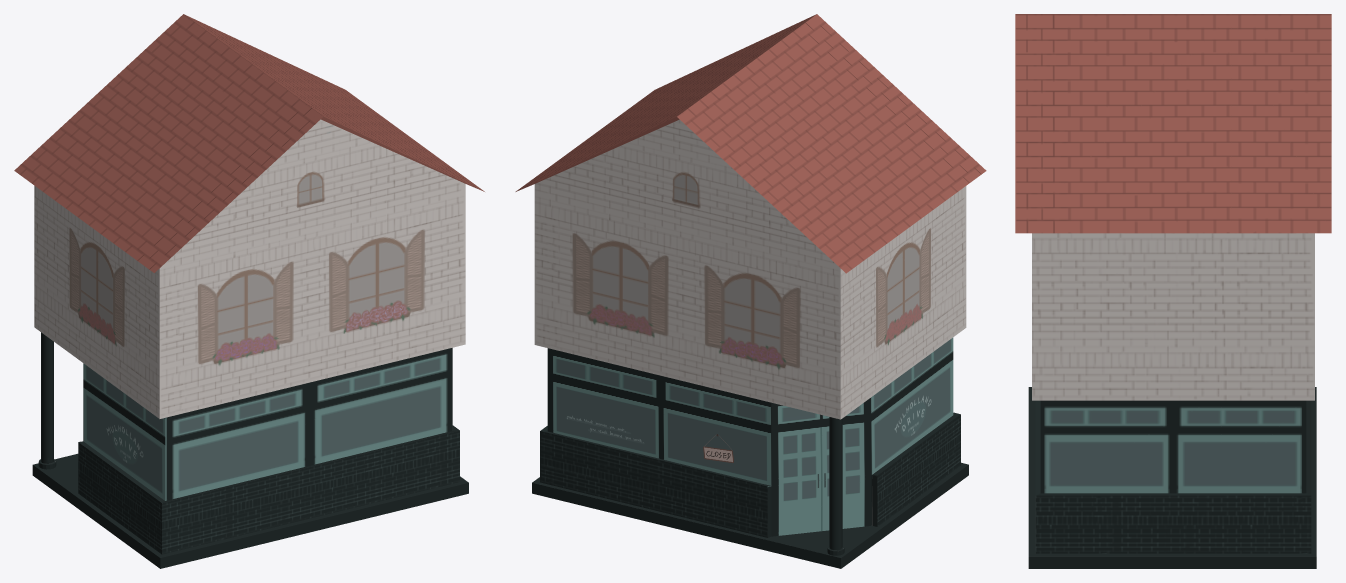
Rendered from 商店街_三角窗.fbx.
3 views of the same model, side by side, from view 1: azimuth 30°, elevation 25°; view 2: azimuth 150°, elevation 25°; view 3: azimuth 270°, elevation 25° (orthographic). The views are drawn at different scales.
Parts seen in each view (by area): view 1: pCylinder2; view 2: pCylinder2; view 3: pCylinder2.
Part boxes in pixels (left/top/right/bottom): pCylinder2: left=14, top=14, right=484, bottom=568; pCylinder2: left=515, top=14, right=986, bottom=568; pCylinder2: left=1015, top=14, right=1331, bottom=568.
Size of the model in its own units: 20.35 by 24.53 by 14.9.
